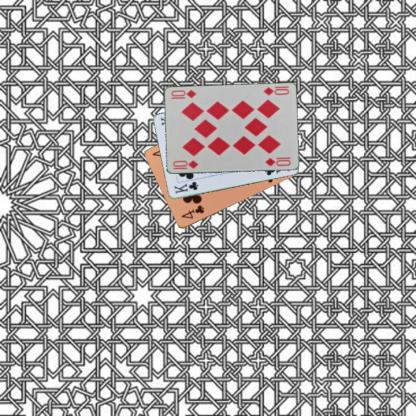10d: (170, 158, 199, 170), (261, 85, 290, 97)
4c: (178, 202, 206, 220)
Kc: (172, 179, 199, 195)
